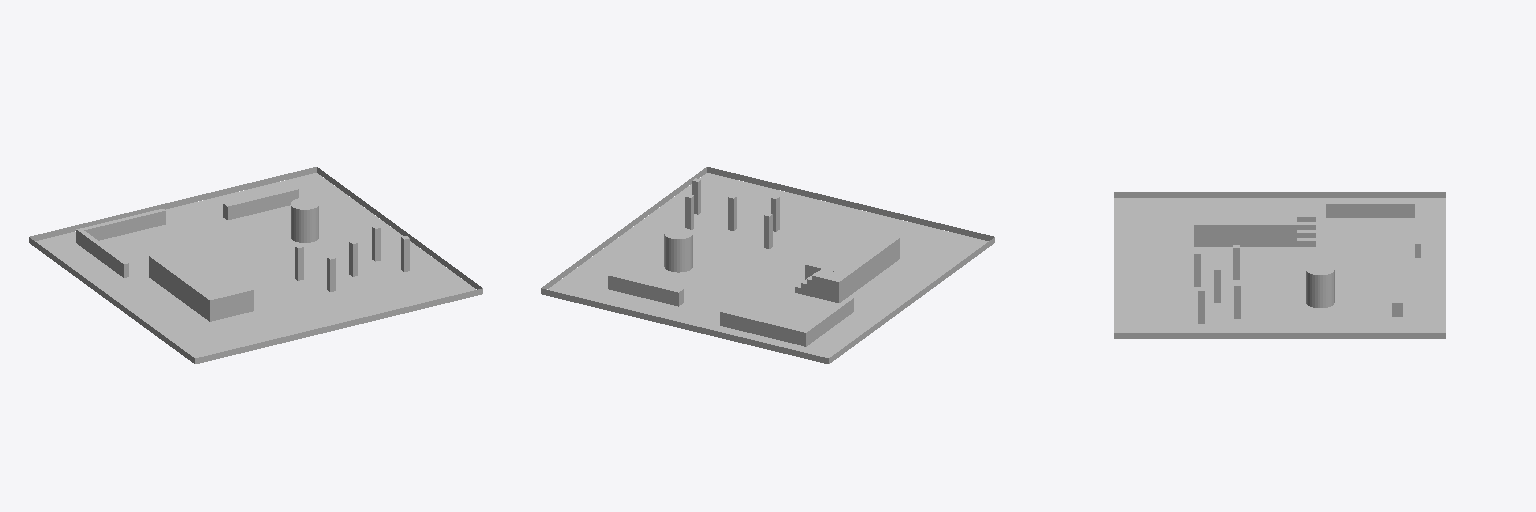
File: CGMap.obj
3 views of the same model, side by side, from view 1: azimuth 30°, elevation 25°; view 2: azimuth 150°, elevation 25°; view 3: azimuth 270°, elevation 25° (orthographic).
Parts seen in each view (by area): view 1: Grid, Cube.002_Cube.003, Grid.004, Grid.003, Cube_Cube.001, Cube.008_Cube.009, Cylinder, Grid.002, Cube.009_Cube.010, Grid.001; view 2: Grid, Cube.002_Cube.003, Grid.003, Grid.004, Cube_Cube.001, Cube.008_Cube.009, Cube.001_Cube.002, Cylinder, Grid.002, Cube.009_Cube.010, Grid.001; view 3: Grid, Cube.002_Cube.003, Grid.001, Grid.002, Cube.009_Cube.010, Cylinder, Cube.001_Cube.002, Cube_Cube.001.
Part boxes in pixels (left/top/right/bottom): Grid: left=35, top=173, right=475, bottom=357; Cube.002_Cube.003: left=158, top=252, right=253, bottom=321; Grid.004: left=195, top=288, right=482, bottom=363; Grid.003: left=30, top=167, right=316, bottom=240; Cube_Cube.001: left=223, top=186, right=298, bottom=219; Cube.008_Cube.009: left=82, top=209, right=165, bottom=240; Cylinder: left=291, top=198, right=318, bottom=242; Grid.002: left=29, top=237, right=194, bottom=363; Cube.009_Cube.010: left=76, top=228, right=128, bottom=277; Grid.001: left=317, top=167, right=481, bottom=289; Grid: left=548, top=173, right=988, bottom=357; Cube.002_Cube.003: left=805, top=227, right=899, bottom=295; Grid.003: left=541, top=288, right=828, bottom=363; Grid.004: left=707, top=167, right=993, bottom=240; Cube_Cube.001: left=608, top=272, right=683, bottom=306; Cube.008_Cube.009: left=720, top=310, right=803, bottom=344; Cube.001_Cube.002: left=795, top=269, right=848, bottom=302; Cylinder: left=664, top=227, right=692, bottom=272; Grid.002: left=829, top=237, right=994, bottom=363; Cube.009_Cube.010: left=801, top=297, right=853, bottom=346; Grid.001: left=542, top=167, right=706, bottom=289; Grid: left=1114, top=198, right=1445, bottom=332; Cube.002_Cube.003: left=1194, top=204, right=1296, bottom=246; Grid.001: left=1114, top=333, right=1445, bottom=338; Grid.002: left=1114, top=192, right=1445, bottom=197; Cube.009_Cube.010: left=1326, top=202, right=1420, bottom=217; Cylinder: left=1306, top=263, right=1334, bottom=307; Cube.001_Cube.002: left=1297, top=204, right=1315, bottom=246; Cube_Cube.001: left=1392, top=268, right=1402, bottom=316.
Size of the model in its own units: 100 by 13.6 by 100.